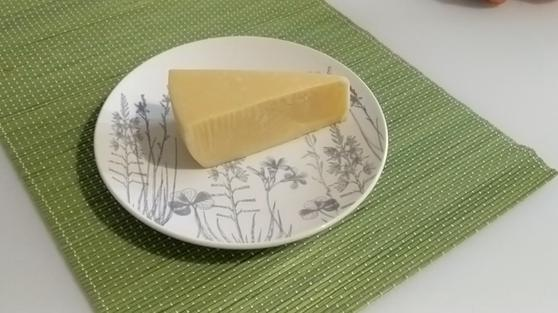cheese: (171, 65, 350, 170)
